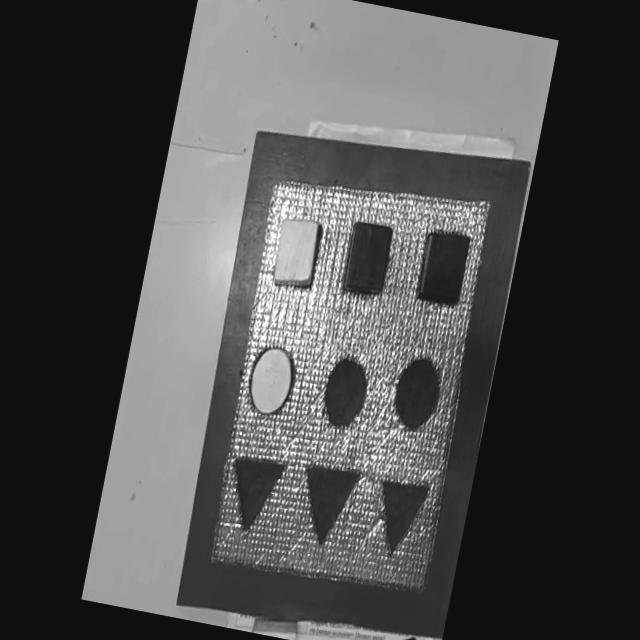bcube: (414, 227, 473, 309)
mtcircle: (386, 351, 446, 437), (316, 353, 372, 434)
mttriangle: (292, 458, 363, 552), (222, 451, 286, 537), (368, 476, 430, 562)
rcube: (341, 220, 396, 300)
wb: (199, 161, 499, 605)
ycircle: (243, 342, 299, 421)
ycube: (268, 212, 324, 292)
